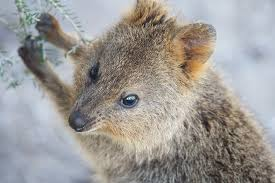quokka: (21, 2, 260, 183)
